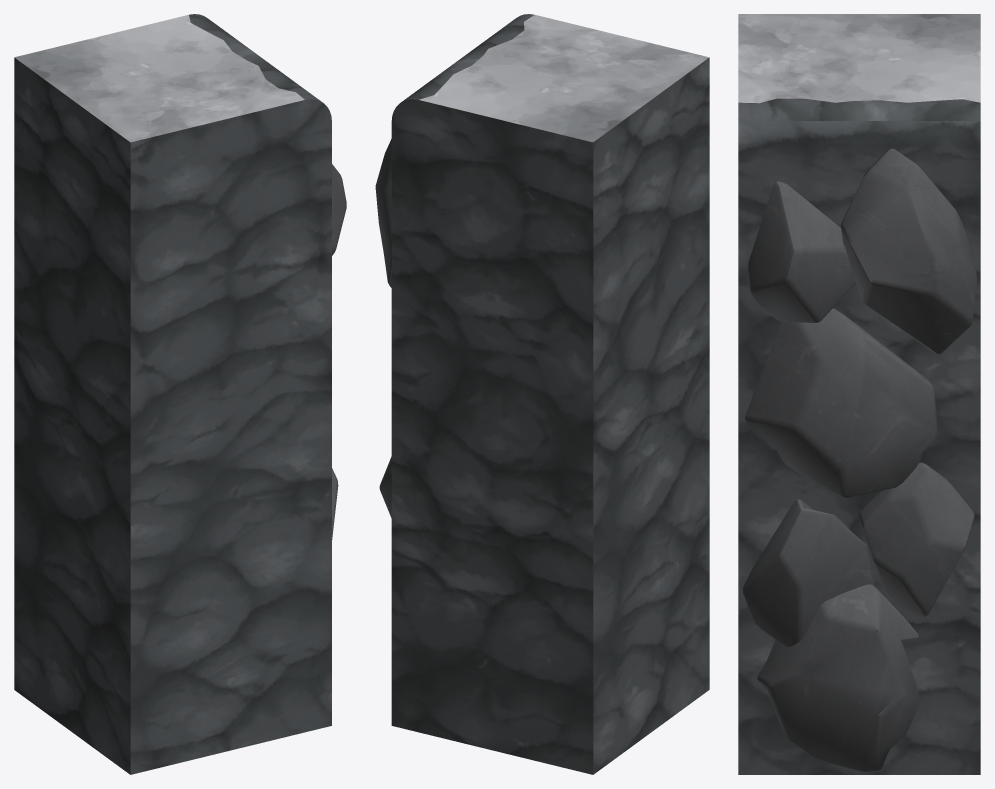
File: StoneWall.fbx
3 renders of one model, left to right at view 1: azimuth 30°, elevation 25°; view 2: azimuth 150°, elevation 25°; view 3: azimuth 270°, elevation 25°, orthographic. The views are drawn at different scales.
Parts seen in each view (by area): view 1: StoneWall, Cube.098; view 2: StoneWall, Cube.097; view 3: StoneWall, Cube.096, Cube.093, Cube.097, Cube.095, Cube.094, Cube.098.
Boxes of the visible parts, left/top/right/bottom form: StoneWall: left=14, top=14, right=331, bottom=774; Cube.098: left=332, top=164, right=346, bottom=255; StoneWall: left=391, top=14, right=709, bottom=774; Cube.097: left=375, top=139, right=391, bottom=287; StoneWall: left=738, top=14, right=980, bottom=774; Cube.096: left=745, top=308, right=938, bottom=497; Cube.093: left=757, top=584, right=920, bottom=771; Cube.097: left=841, top=148, right=976, bottom=354; Cube.095: left=859, top=462, right=974, bottom=617; Cube.094: left=742, top=499, right=874, bottom=646; Cube.098: left=748, top=181, right=855, bottom=322.
Bounding box in the file's own units: 984 × 2400 × 800.
Materials: 3 (3 with a texture image).
